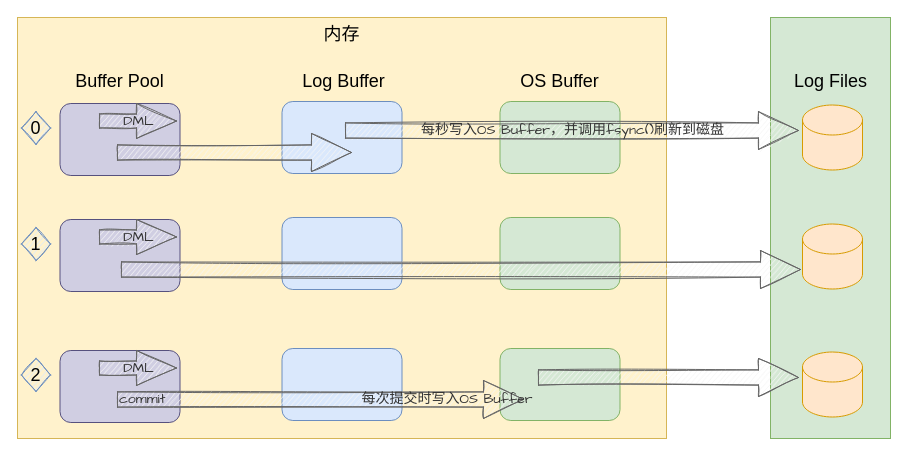
Image size: 908x456. Some labels were removed from this diagram. The box of each missing label's shape, as (x1, y1, x2, y2) in pixels:
commit: (116, 132, 352, 172)
commit 每次提交时写入OS Buffer，并调用fsync()刷新到磁盘: (120, 250, 800, 288)
每秒调用fsync()刷新到磁盘: (538, 358, 798, 396)
磁盘: (770, 16, 890, 438)
